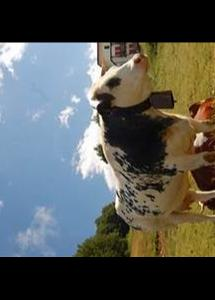cow: (87, 53, 215, 232), (186, 97, 215, 214)
